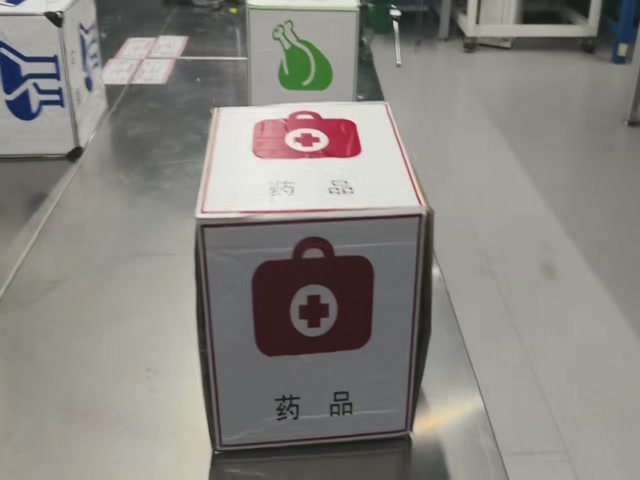Cube_medicine: (197, 103, 431, 228)
